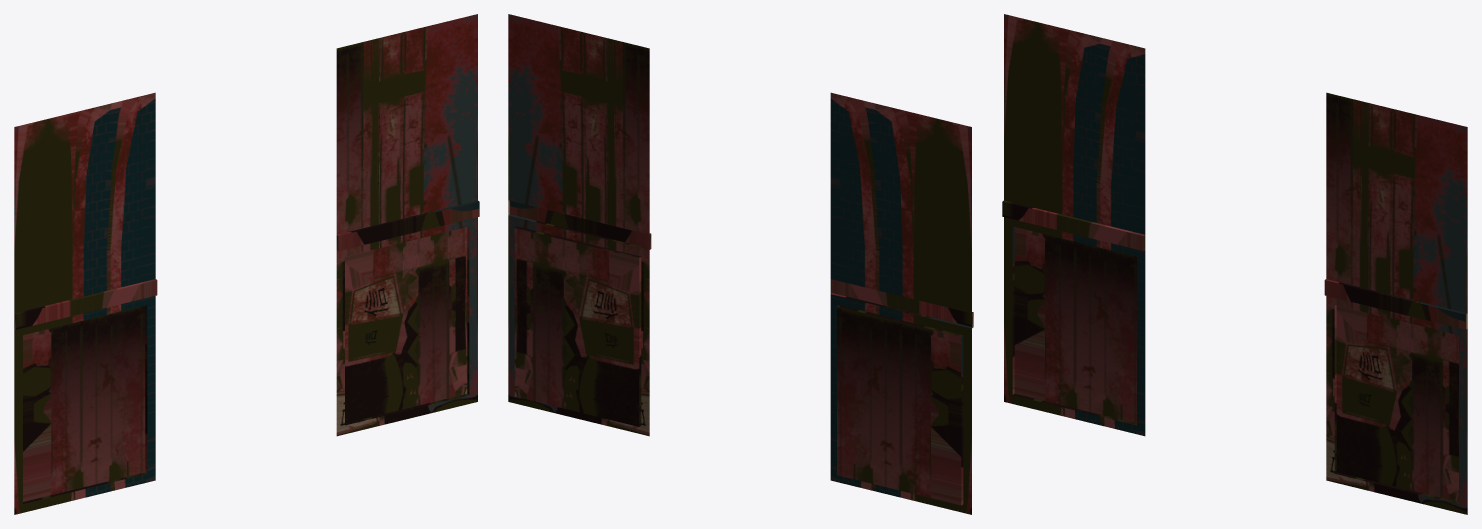
Rendered from JANELAS DA PAREDE 3 M 2 JANELAS.fbx.
The picture shows the model from 3 angles, left to right: view 1: azimuth 30°, elevation 25°; view 2: azimuth 150°, elevation 25°; view 3: azimuth 330°, elevation 25°; orthographic projection.
Visible parts, largest first — view 1: Cube.262; view 2: Cube.262; view 3: Cube.262.
Boxes of the visible parts, x1=… form: Cube.262: x1=14, y1=14, x2=479, y2=514; Cube.262: x1=508, y1=14, x2=973, y2=514; Cube.262: x1=1002, y1=14, x2=1467, y2=514.
Size of the model in its own units: 243 by 194 by 3.35.
